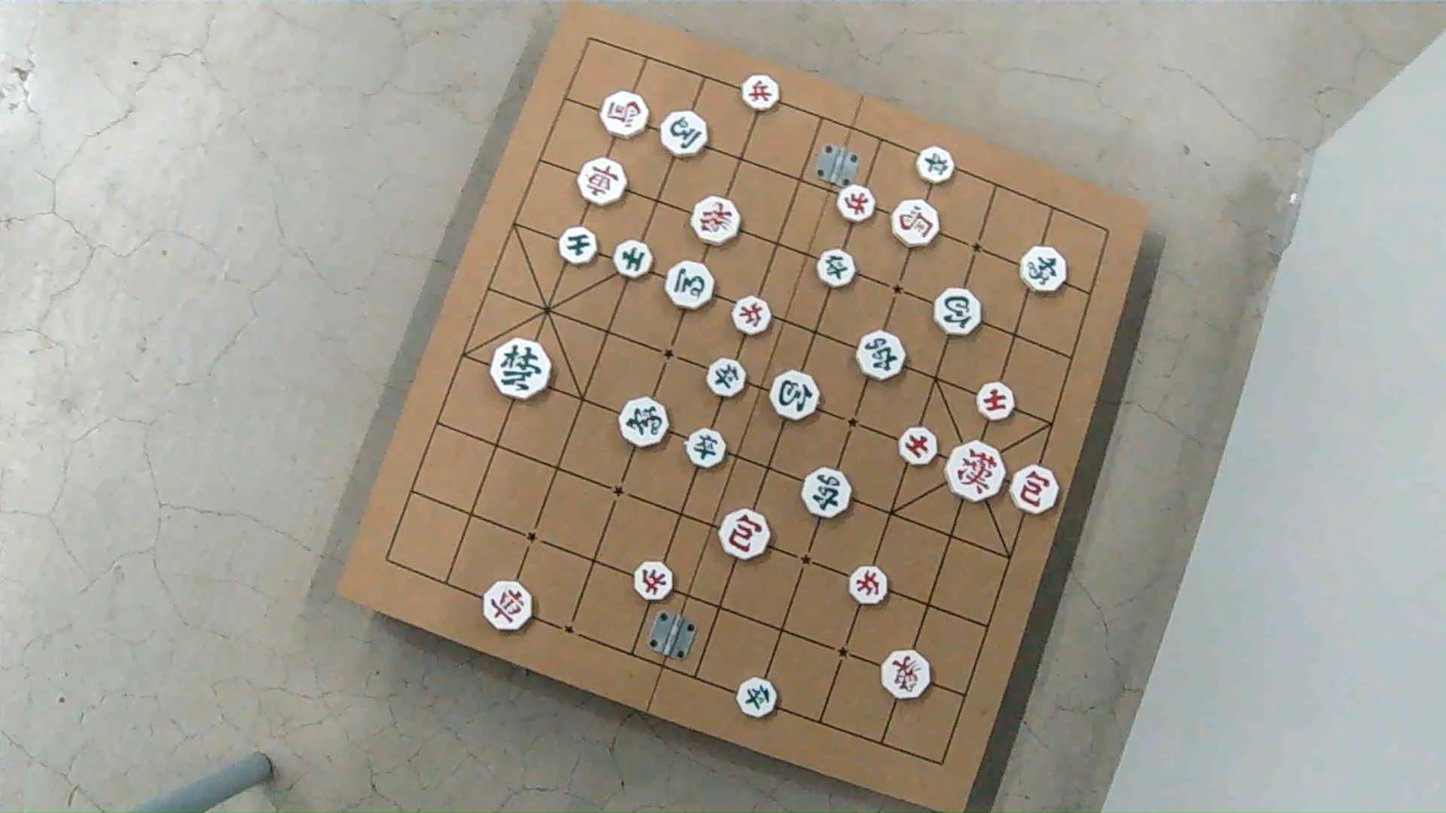cha_green: (801, 468, 850, 519), (856, 332, 905, 381)
cha_red: (481, 583, 531, 632), (578, 157, 627, 205)
jol_green: (709, 357, 749, 396), (687, 429, 727, 468), (737, 679, 776, 719), (817, 249, 856, 288), (919, 148, 956, 185)
jol_red: (633, 559, 673, 599), (835, 184, 874, 222), (847, 568, 886, 606), (740, 75, 779, 113), (733, 297, 772, 335)
ma_green: (665, 261, 713, 309), (662, 112, 708, 157)
ma_red: (891, 200, 938, 247), (602, 91, 648, 138)
po_green: (771, 371, 820, 421), (935, 288, 982, 337)
po_red: (722, 510, 773, 561), (1010, 465, 1060, 514)
sa_green: (612, 239, 654, 279), (559, 227, 596, 264)
sa_red: (975, 383, 1014, 422), (897, 428, 935, 467)
sang_green: (621, 397, 669, 446), (1021, 248, 1068, 294)
sang_red: (879, 650, 929, 699), (692, 198, 740, 247)
wang_green: (492, 340, 551, 401)
wang_red: (946, 440, 1006, 500)
